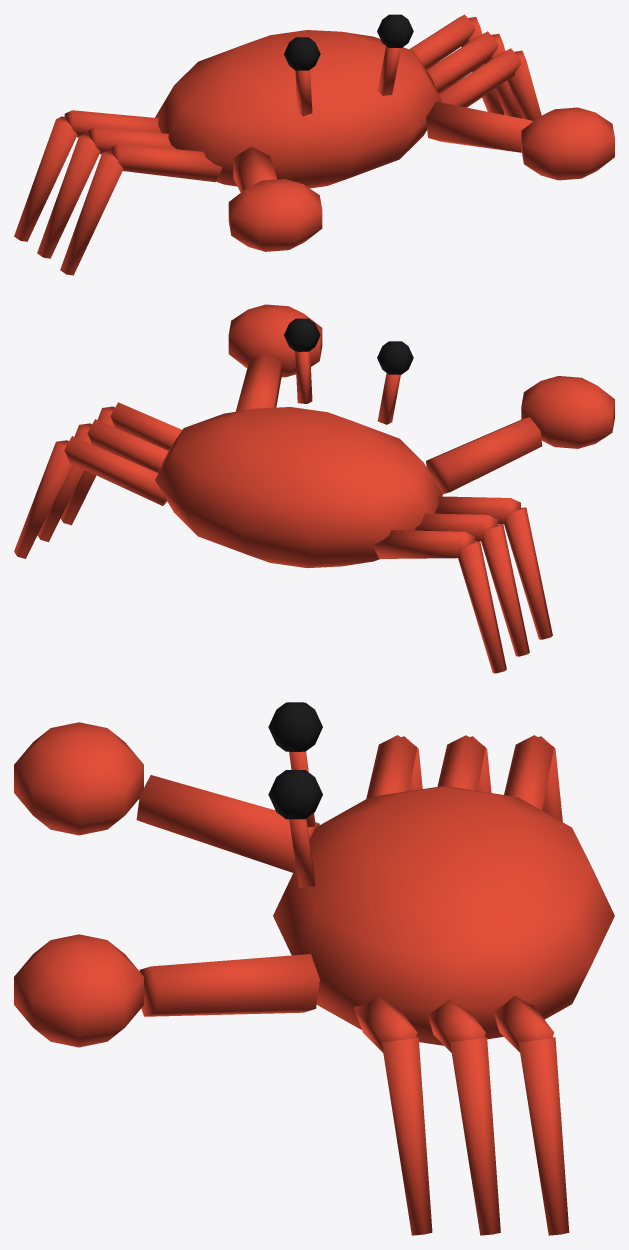
Rendered from Crab.fbx.
3 renders of one model, top to bottom at view 1: azimuth 30°, elevation 25°; view 2: azimuth 150°, elevation 25°; view 3: azimuth 270°, elevation 25°, orthographic. The views are drawn at different scales.
Parts seen in each view (by area): view 1: Crab.001; view 2: Crab.001; view 3: Crab.001.
Part boxes in pixels (x1=…): Crab.001: x1=14, y1=14, x2=614, y2=275; Crab.001: x1=14, y1=304, x2=614, y2=673; Crab.001: x1=14, y1=702, x2=614, y2=1235.
Bounding box in the file's own units: 0.3688 × 0.1585 × 0.2635.
